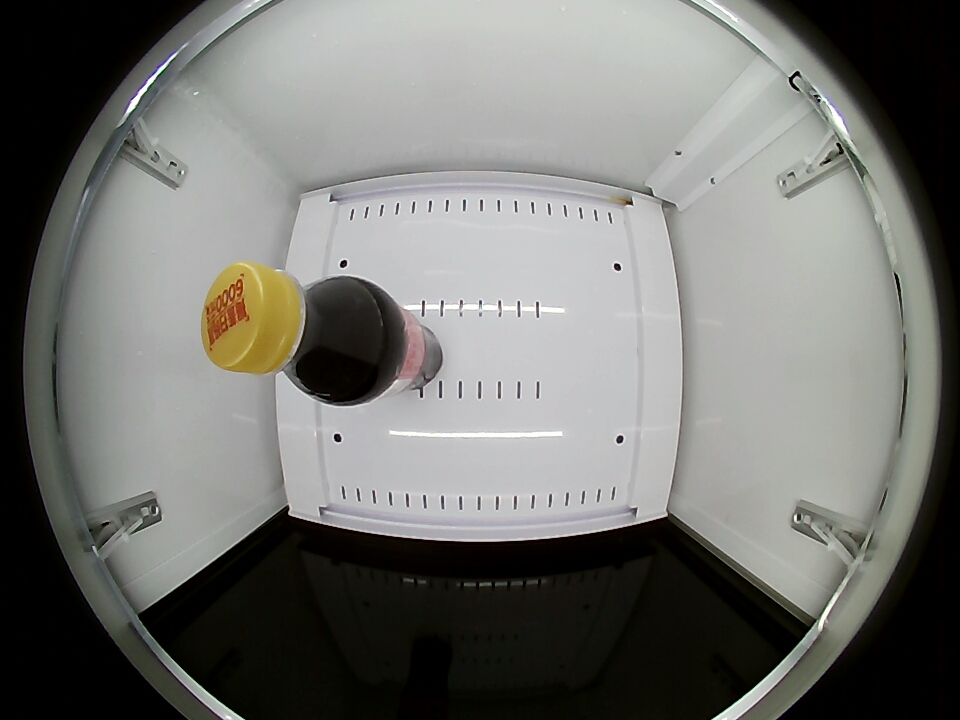kele-b-2: (200, 264, 397, 402)
